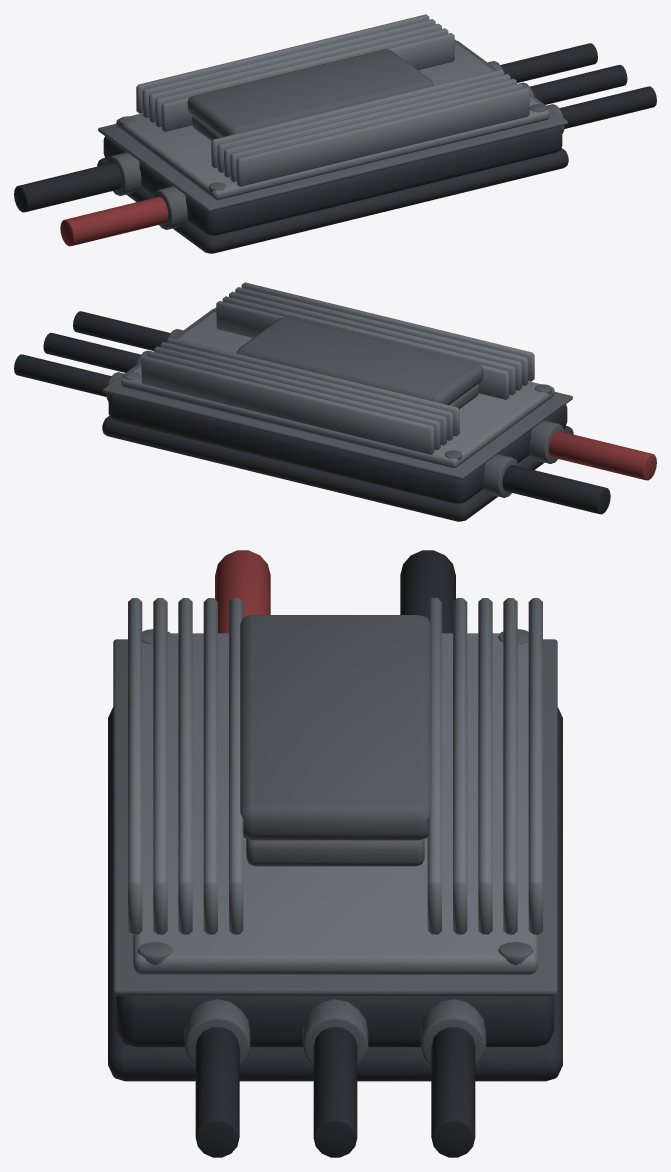
The model's file is small_esc.glb.
The picture shows the model from 3 angles, top to bottom: view 1: azimuth 30°, elevation 25°; view 2: azimuth 150°, elevation 25°; view 3: azimuth 270°, elevation 25°; orthographic projection. The views are drawn at different scales.
Visible parts, largest first — view 1: SmallESC_MainHousing, SmallESC_TopCover, SmallESC_Fin_01, SmallESC_HeatSink, SmallESC_Base, SmallESC_EnclosureSeam, SmallESC_PowerCable_Positive, SmallESC_PowerCable_Negative, SmallESC_Fin_06, SmallESC_Fin_04, SmallESC_Fin_07, SmallESC_Fin_02 (+10 smaller); view 2: SmallESC_MainHousing, SmallESC_TopCover, SmallESC_Fin_10, SmallESC_HeatSink, SmallESC_Base, SmallESC_EnclosureSeam, SmallESC_PowerCable_Negative, SmallESC_PowerCable_Positive, SmallESC_Fin_05, SmallESC_Fin_04, SmallESC_Fin_07, SmallESC_Fin_01 (+10 smaller); view 3: SmallESC_HeatSink, SmallESC_TopCover, SmallESC_EnclosureSeam, SmallESC_Base, SmallESC_MainHousing, SmallESC_MotorCable_B, SmallESC_MotorCable_A, SmallESC_MotorCable_C, SmallESC_Fin_01, SmallESC_Fin_04, SmallESC_Fin_07, SmallESC_Fin_10 (+12 smaller).
Part boxes in pixels (box(x1,y1,x2,y2)): SmallESC_MainHousing: box(103, 126, 562, 235); SmallESC_TopCover: box(187, 49, 434, 137); SmallESC_Fin_01: box(236, 87, 529, 186); SmallESC_HeatSink: box(116, 43, 549, 199); SmallESC_Base: box(97, 148, 568, 253); SmallESC_EnclosureSeam: box(98, 40, 567, 211); SmallESC_PowerCable_Positive: box(60, 197, 168, 246); SmallESC_PowerCable_Negative: box(14, 163, 121, 212); SmallESC_Fin_06: box(161, 33, 454, 131); SmallESC_Fin_04: box(217, 74, 510, 172); SmallESC_Fin_07: box(155, 28, 448, 127); SmallESC_Fin_02: box(230, 83, 523, 182); SmallESC_MainHousing: box(108, 394, 567, 503); SmallESC_TopCover: box(236, 317, 483, 405); SmallESC_Fin_10: box(141, 355, 434, 454); SmallESC_HeatSink: box(121, 311, 554, 467); SmallESC_Base: box(102, 416, 573, 521); SmallESC_EnclosureSeam: box(103, 308, 572, 479); SmallESC_PowerCable_Negative: box(502, 465, 610, 514); SmallESC_PowerCable_Positive: box(549, 431, 656, 480); SmallESC_Fin_05: box(216, 301, 509, 399); SmallESC_Fin_04: box(222, 296, 515, 395); SmallESC_Fin_07: box(160, 342, 453, 440); SmallESC_Fin_01: box(241, 282, 534, 381); SmallESC_HeatSink: box(133, 633, 537, 974); SmallESC_TopCover: box(240, 615, 430, 840); SmallESC_EnclosureSeam: box(113, 639, 557, 995); SmallESC_Base: box(108, 707, 562, 1081); SmallESC_MainHousing: box(116, 996, 554, 1046); SmallESC_MotorCable_B: box(313, 1027, 357, 1157); SmallESC_MotorCable_A: box(195, 1027, 239, 1157); SmallESC_MotorCable_C: box(431, 1027, 475, 1157); SmallESC_Fin_01: box(128, 598, 142, 934); SmallESC_Fin_04: box(203, 598, 217, 934); SmallESC_Fin_07: box(453, 598, 467, 934); SmallESC_Fin_10: box(528, 598, 542, 934).
Size of the model in its own units: 0.0794 by 0.0127 by 0.027.
